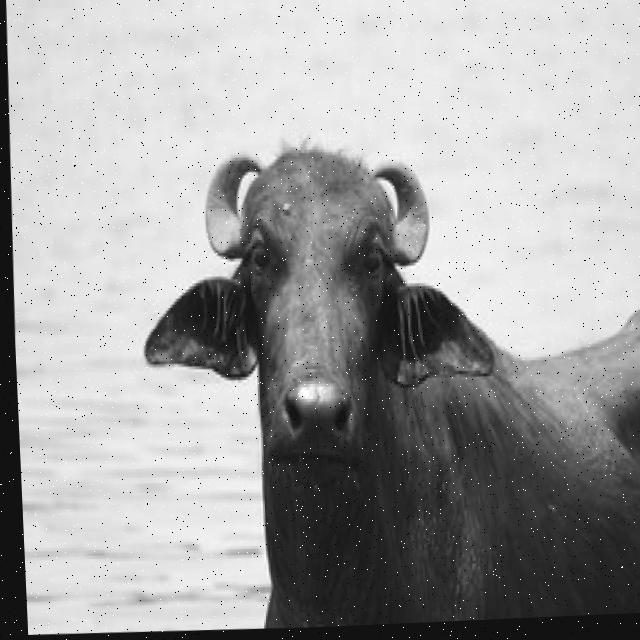Buffalo: (126, 116, 640, 635)
